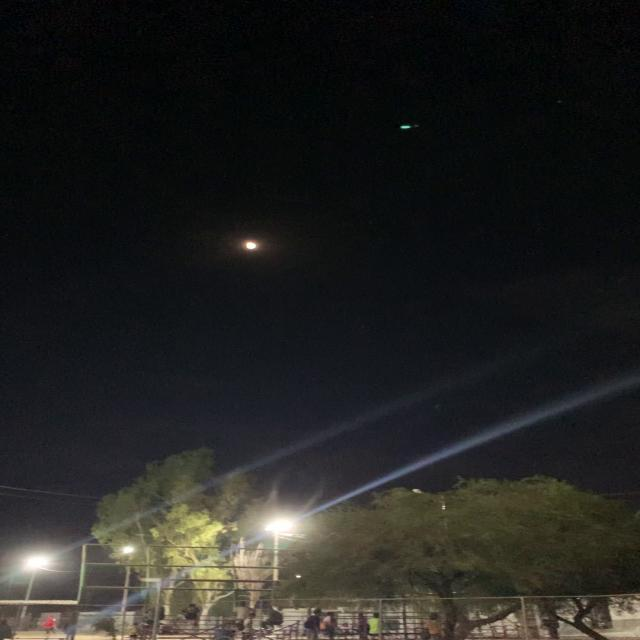moon: (235, 236, 268, 257)
